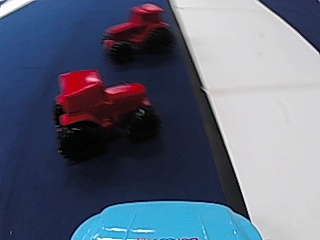tractor: (48, 65, 161, 161), (100, 2, 169, 63)
